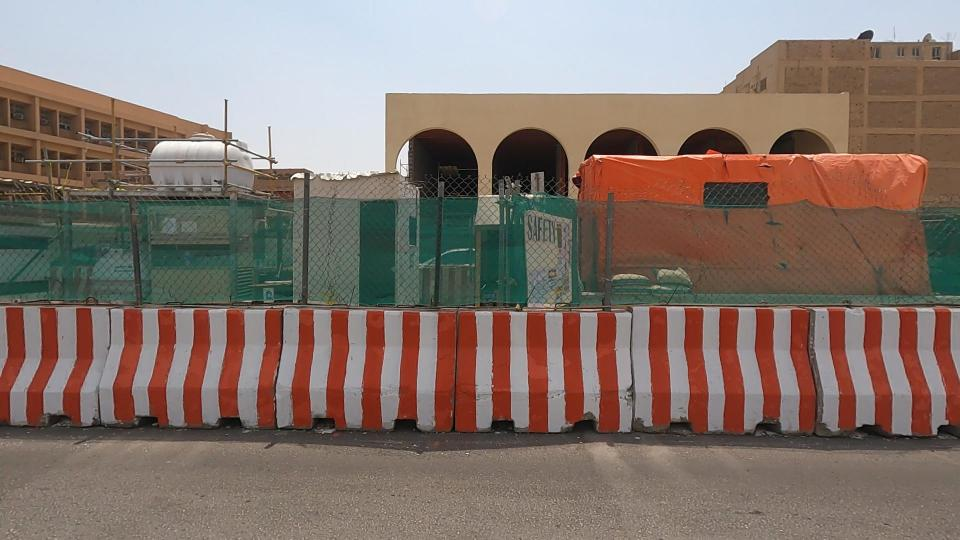CONSTRUCTION_ROAD: (360, 79, 960, 540), (0, 150, 625, 499)
